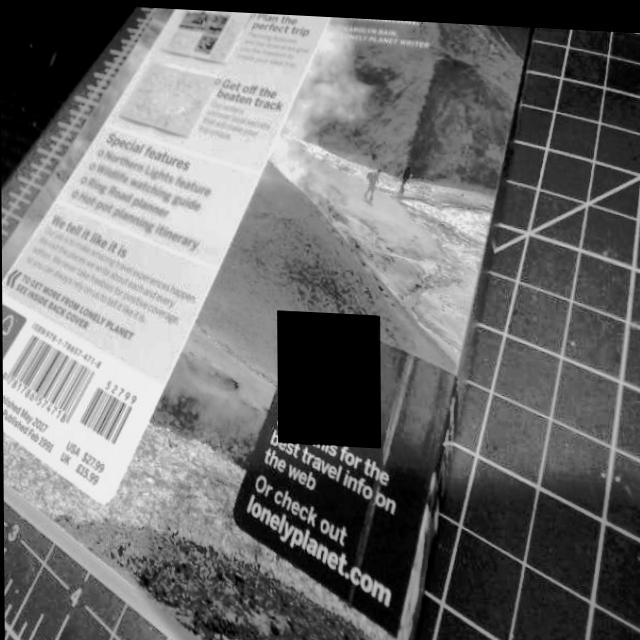qr_code: (277, 308, 380, 444)
